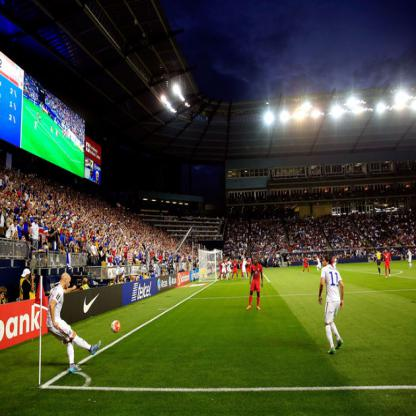corner kick: (23, 242, 145, 413)
